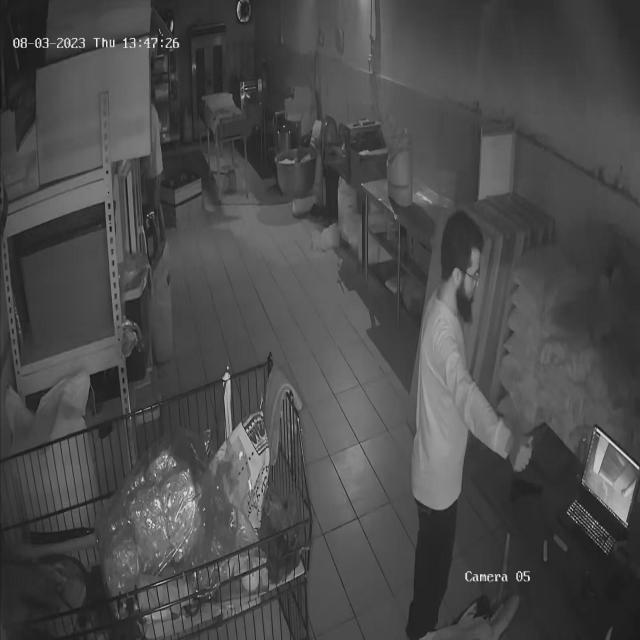Knife: (514, 435, 545, 517)
